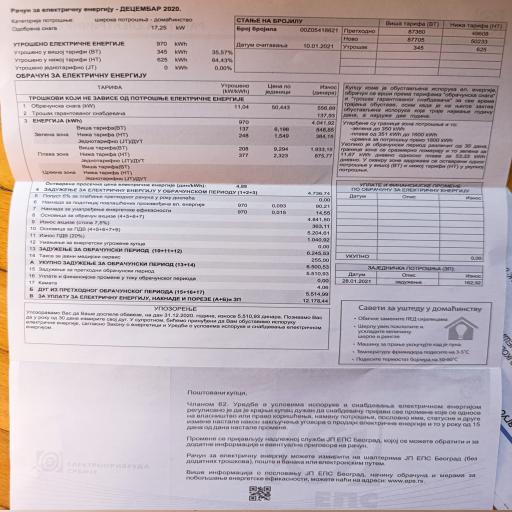racun_za_struju: (12, 72, 341, 197)
